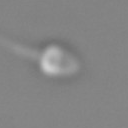normal: (1, 33, 41, 61)
